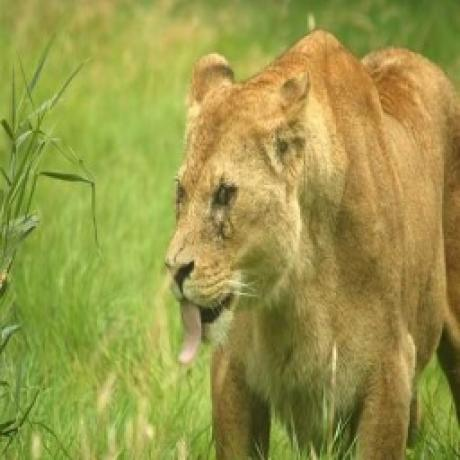Lion: (165, 23, 460, 460)
